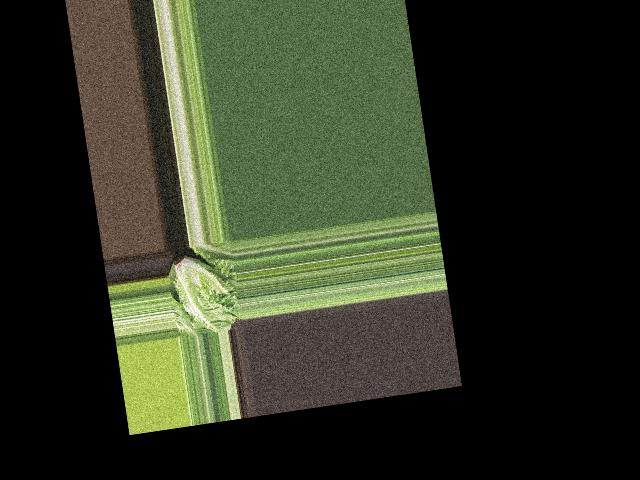lettuce: (164, 245, 239, 337)
